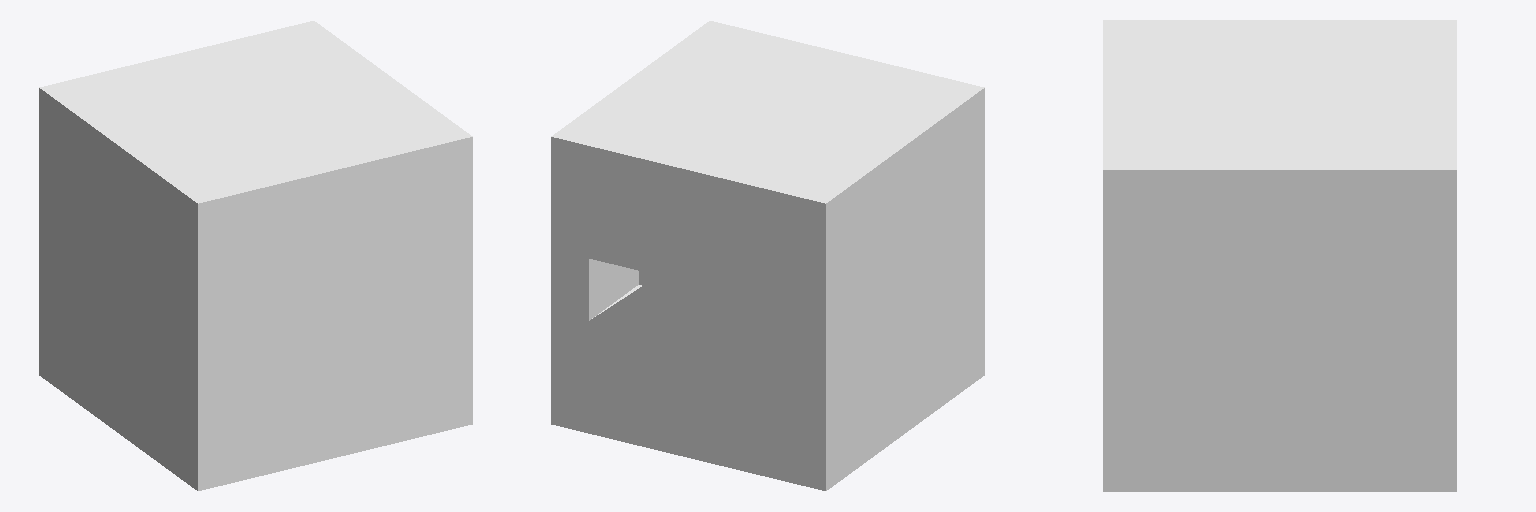
The robot description file, URDF, robot "Cross_cube_bottle":
<?xml version="1.0" ?>
<robot name="Cross_cube_bottle">
  <link name="baseLink">
    <contact>
    	<friction_anchor/>
    	   <lateral_friction value="1.0"/>
    </contact>
    <inertial>
      <origin rpy="0 0 0" xyz="0 0 0"/>
       <!-- mass controls penetration -->
       <mass value=".5"/>
       <inertia ixx="1e-4" ixy="0" ixz="0" iyy="1e-4" iyz="0" izz="1e-4"/>
    </inertial>
    <visual>
      <origin rpy="0 0 0" xyz="0 0 0"/>
      <geometry>
        <mesh filename="Cross_cube_bottle.obj"/>
      </geometry>
       <material name="white">
        <color rgba="1 1 1 1"/>
      </material>
    </visual>
    <collision>
      <origin rpy="0 0 0" xyz="0 0 0"/>
      <geometry>
        <mesh filename="Cross_cube_bottle.obj"/>
      </geometry>
    </collision>
  </link>
</robot>

--- What the picture shows (computed from the rendered views, not written in the file) ---
The picture shows the robot from 3 angles, left to right: view 1: azimuth 30°, elevation 25°; view 2: azimuth 150°, elevation 25°; view 3: azimuth 270°, elevation 25°; orthographic projection.
Robot: Cross_cube_bottle — 1 links, 0 joints (none); root link baseLink; default pose: all joints at 0.
Links seen in each view (by area): view 1: baseLink; view 2: baseLink; view 3: baseLink.
Link boxes in pixels (bbox=[...]): baseLink: bbox=[39, 21, 472, 490]; baseLink: bbox=[551, 21, 984, 490]; baseLink: bbox=[1103, 20, 1456, 491].
Bounding box of the posed robot: 0.08 × 0.08 × 0.08 m (x, y, z).
1 mesh visuals loaded from 1 distinct referenced files (1 OBJ).